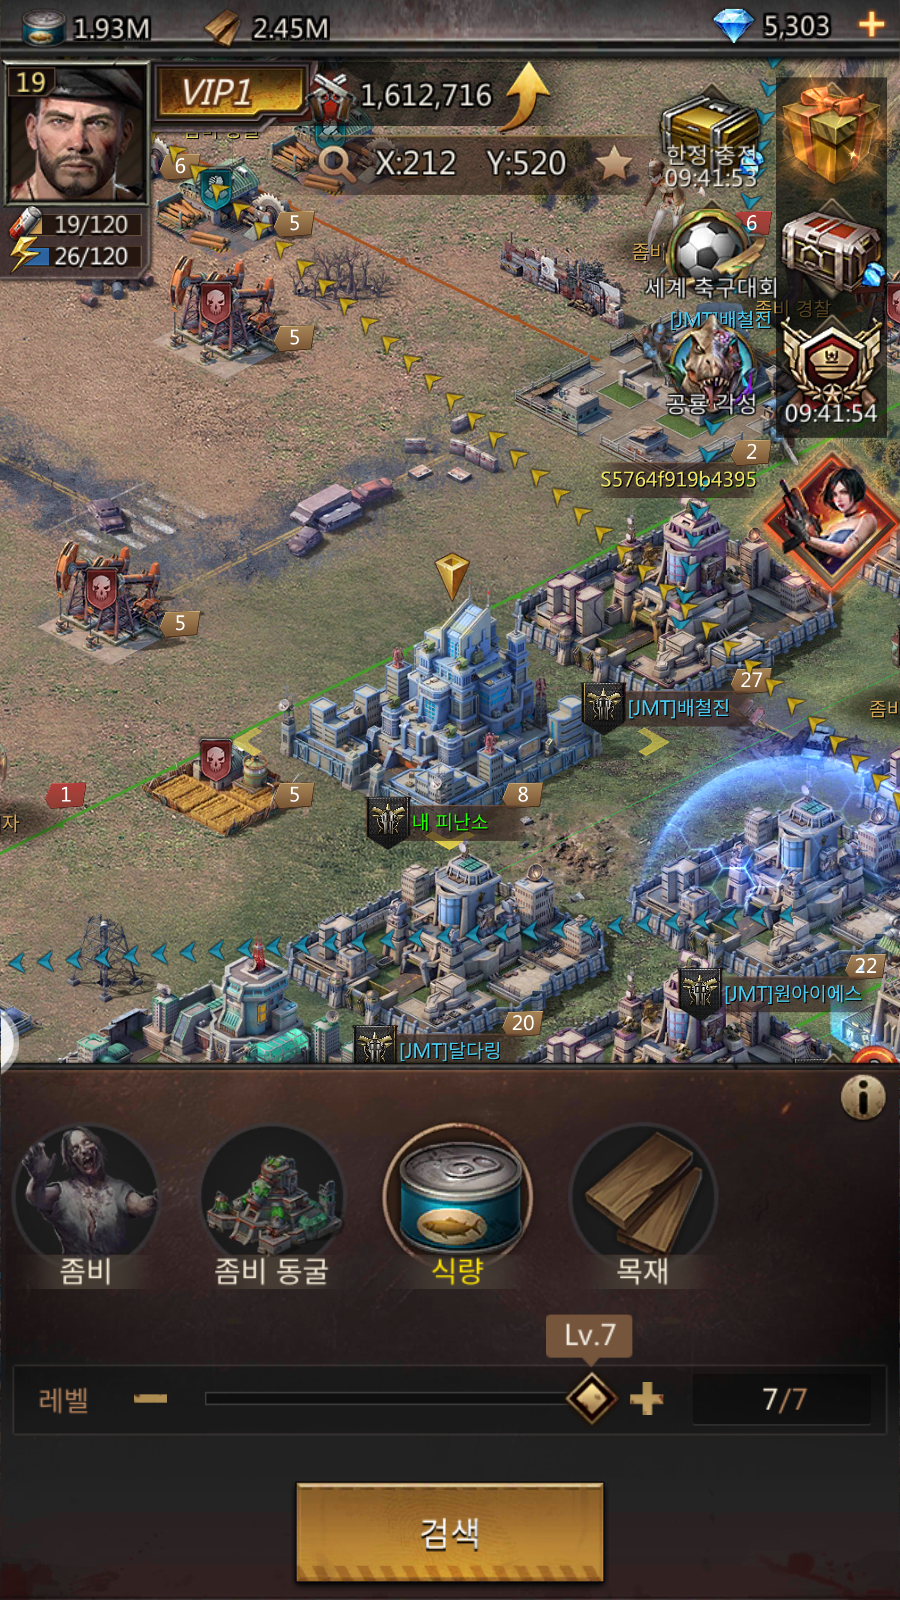rss_food_in_panel: (378, 1122, 537, 1293)
rss_lv7: (549, 1316, 631, 1362)
rss_minus_in_panel: (120, 1369, 176, 1427)
rss_plus_in_panel: (625, 1376, 675, 1425)
rss_search_in_panel: (298, 1485, 607, 1576)
rss_wood_in_panel: (571, 1122, 722, 1293)
